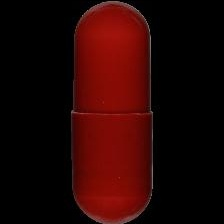21695-661: (0, 0, 224, 224)
